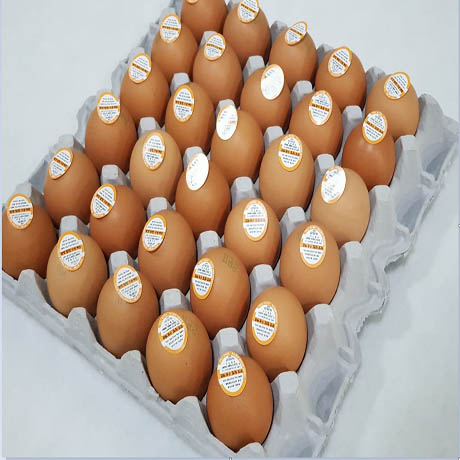egg: (1, 1, 420, 444)
